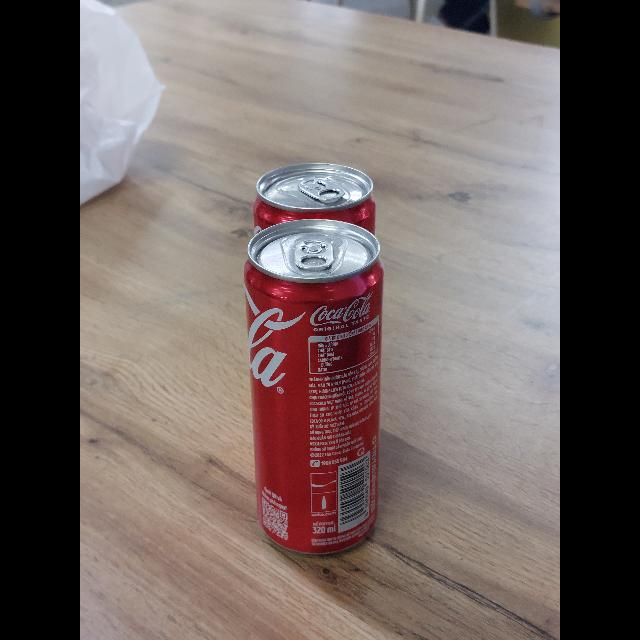coca_cola: (243, 163, 384, 558), (255, 160, 376, 233)
